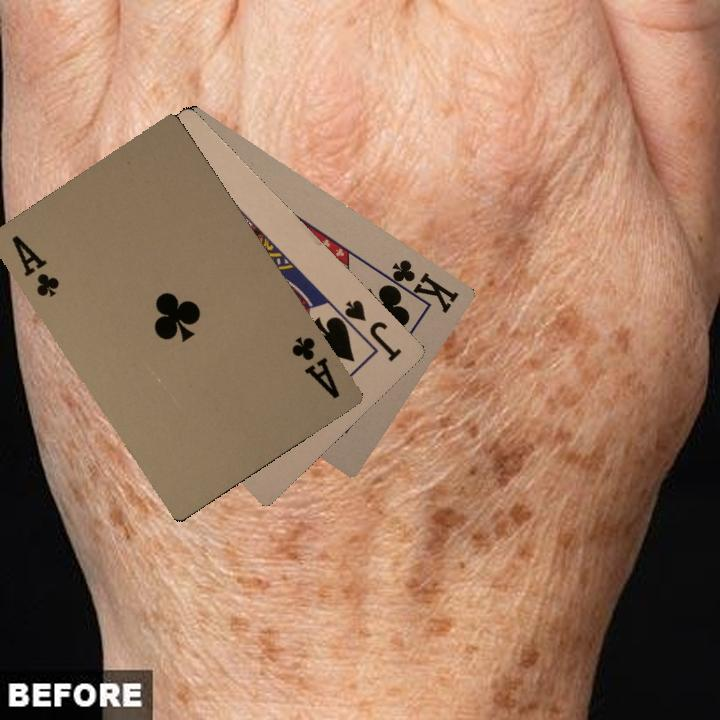Ac: (286, 332, 343, 402), (7, 231, 62, 299)
Js: (334, 295, 404, 365)
Kc: (377, 255, 462, 316)
